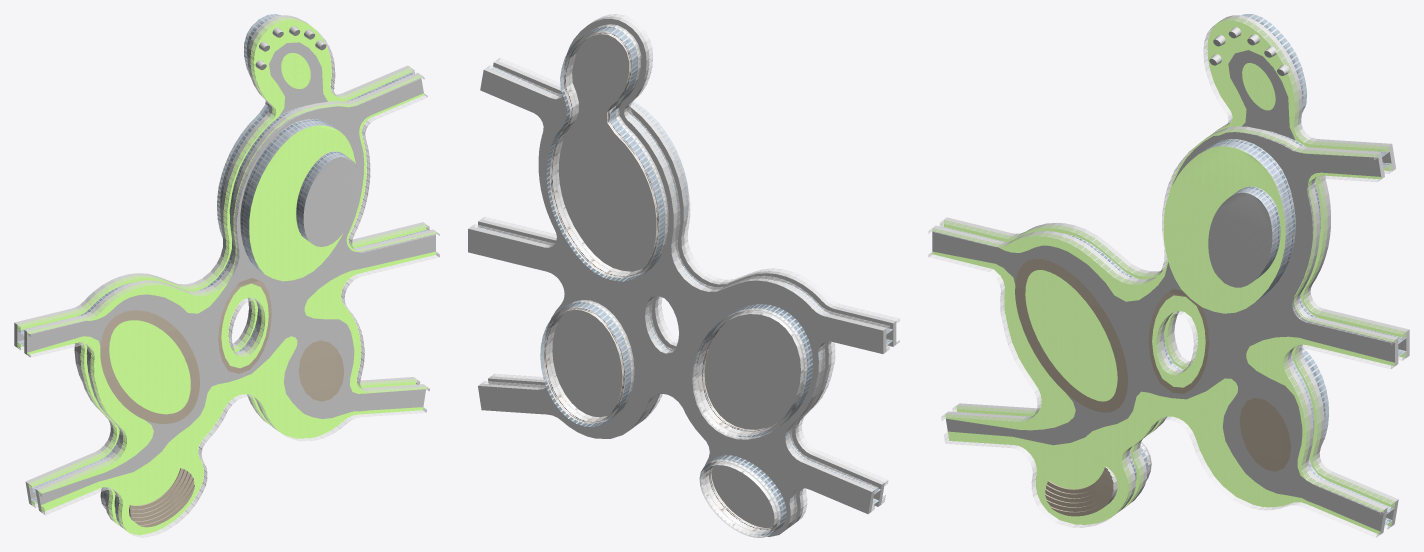
The picture shows the model from 3 angles, left to right: view 1: azimuth 30°, elevation 25°; view 2: azimuth 150°, elevation 25°; view 3: azimuth 330°, elevation 25°; orthographic projection. The views are drawn at different scales.
Parts seen in each view (by area): view 1: 连廊3层楼面, 连廊2层楼面, 连廊栏杆, 连廊3层建筑1, 连廊3层建筑2, 连廊3层草地1, 连廊2层玻璃, 连廊1层墙面.001, 连廊2楼圆柱; view 2: 连廊2层楼面, 连廊1层墙面.001, 连廊3层楼面, 连廊栏杆, 连廊2层玻璃, 连廊3层建筑1; view 3: 连廊3层楼面, 连廊2层楼面, 连廊栏杆, 连廊3层建筑1, 连廊3层建筑2, 连廊3层草地1, 连廊2层玻璃, 连廊1层墙面.001, 连廊2楼圆柱.
Boxes of the visible parts, x1,y1,x2,y2 form: 连廊3层楼面: [24, 72, 435, 535]; 连廊2层楼面: [14, 15, 426, 525]; 连廊栏杆: [17, 17, 439, 537]; 连廊3层建筑1: [240, 119, 355, 281]; 连廊3层建筑2: [296, 151, 360, 246]; 连廊3层草地1: [129, 468, 194, 527]; 连廊2层玻璃: [17, 72, 426, 508]; 连廊1层墙面.001: [74, 14, 280, 509]; 连廊2楼圆柱: [255, 26, 326, 69]; 连廊2层楼面: [468, 16, 886, 536]; 连廊1层墙面.001: [540, 24, 813, 537]; 连廊3层楼面: [478, 60, 896, 527]; 连廊栏杆: [471, 14, 899, 527]; 连廊2层玻璃: [477, 67, 892, 509]; 连廊3层建筑1: [631, 102, 688, 226]; 连廊3层楼面: [932, 126, 1398, 534]; 连廊2层楼面: [943, 15, 1409, 526]; 连廊栏杆: [928, 17, 1406, 537]; 连廊3层建筑1: [1163, 139, 1295, 313]; 连廊3层建筑2: [1208, 186, 1280, 287]; 连廊3层草地1: [1045, 466, 1117, 516]; 连廊2层玻璃: [943, 129, 1405, 525]; 连廊1层墙面.001: [1140, 14, 1328, 480]; 连廊2楼圆柱: [1209, 27, 1289, 75].
Size of the model in its own units: 66.9 by 74.03 by 10.76.
Materials: 7 (7 with a texture image).
